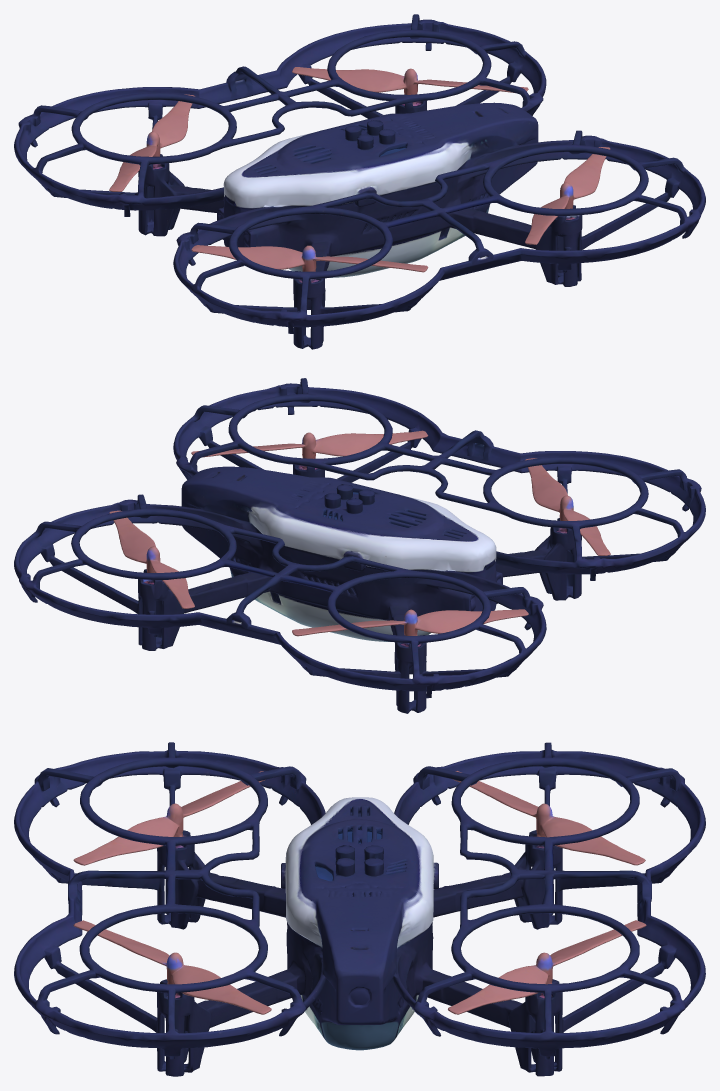
File: CoDroneEDU_PLUS.glb
3 views of the same model, one above another, from view 1: azimuth 30°, elevation 25°; view 2: azimuth 150°, elevation 25°; view 3: azimuth 270°, elevation 25° (orthographic). The views are drawn at different scales.
Parts seen in each view (by area): view 1: tripo_node_36c21aa3-2d75-459d-b470-94c3cc239e23; view 2: tripo_node_36c21aa3-2d75-459d-b470-94c3cc239e23; view 3: tripo_node_36c21aa3-2d75-459d-b470-94c3cc239e23.
Boxes of the visible parts, x1,y1,x2,y2 form: tripo_node_36c21aa3-2d75-459d-b470-94c3cc239e23: (14, 14, 705, 349); tripo_node_36c21aa3-2d75-459d-b470-94c3cc239e23: (14, 378, 705, 713); tripo_node_36c21aa3-2d75-459d-b470-94c3cc239e23: (14, 742, 705, 1076).
Bounding box in the file's own units: 0.9742 × 0.2351 × 1.
Materials: 1 (1 with a texture image).
